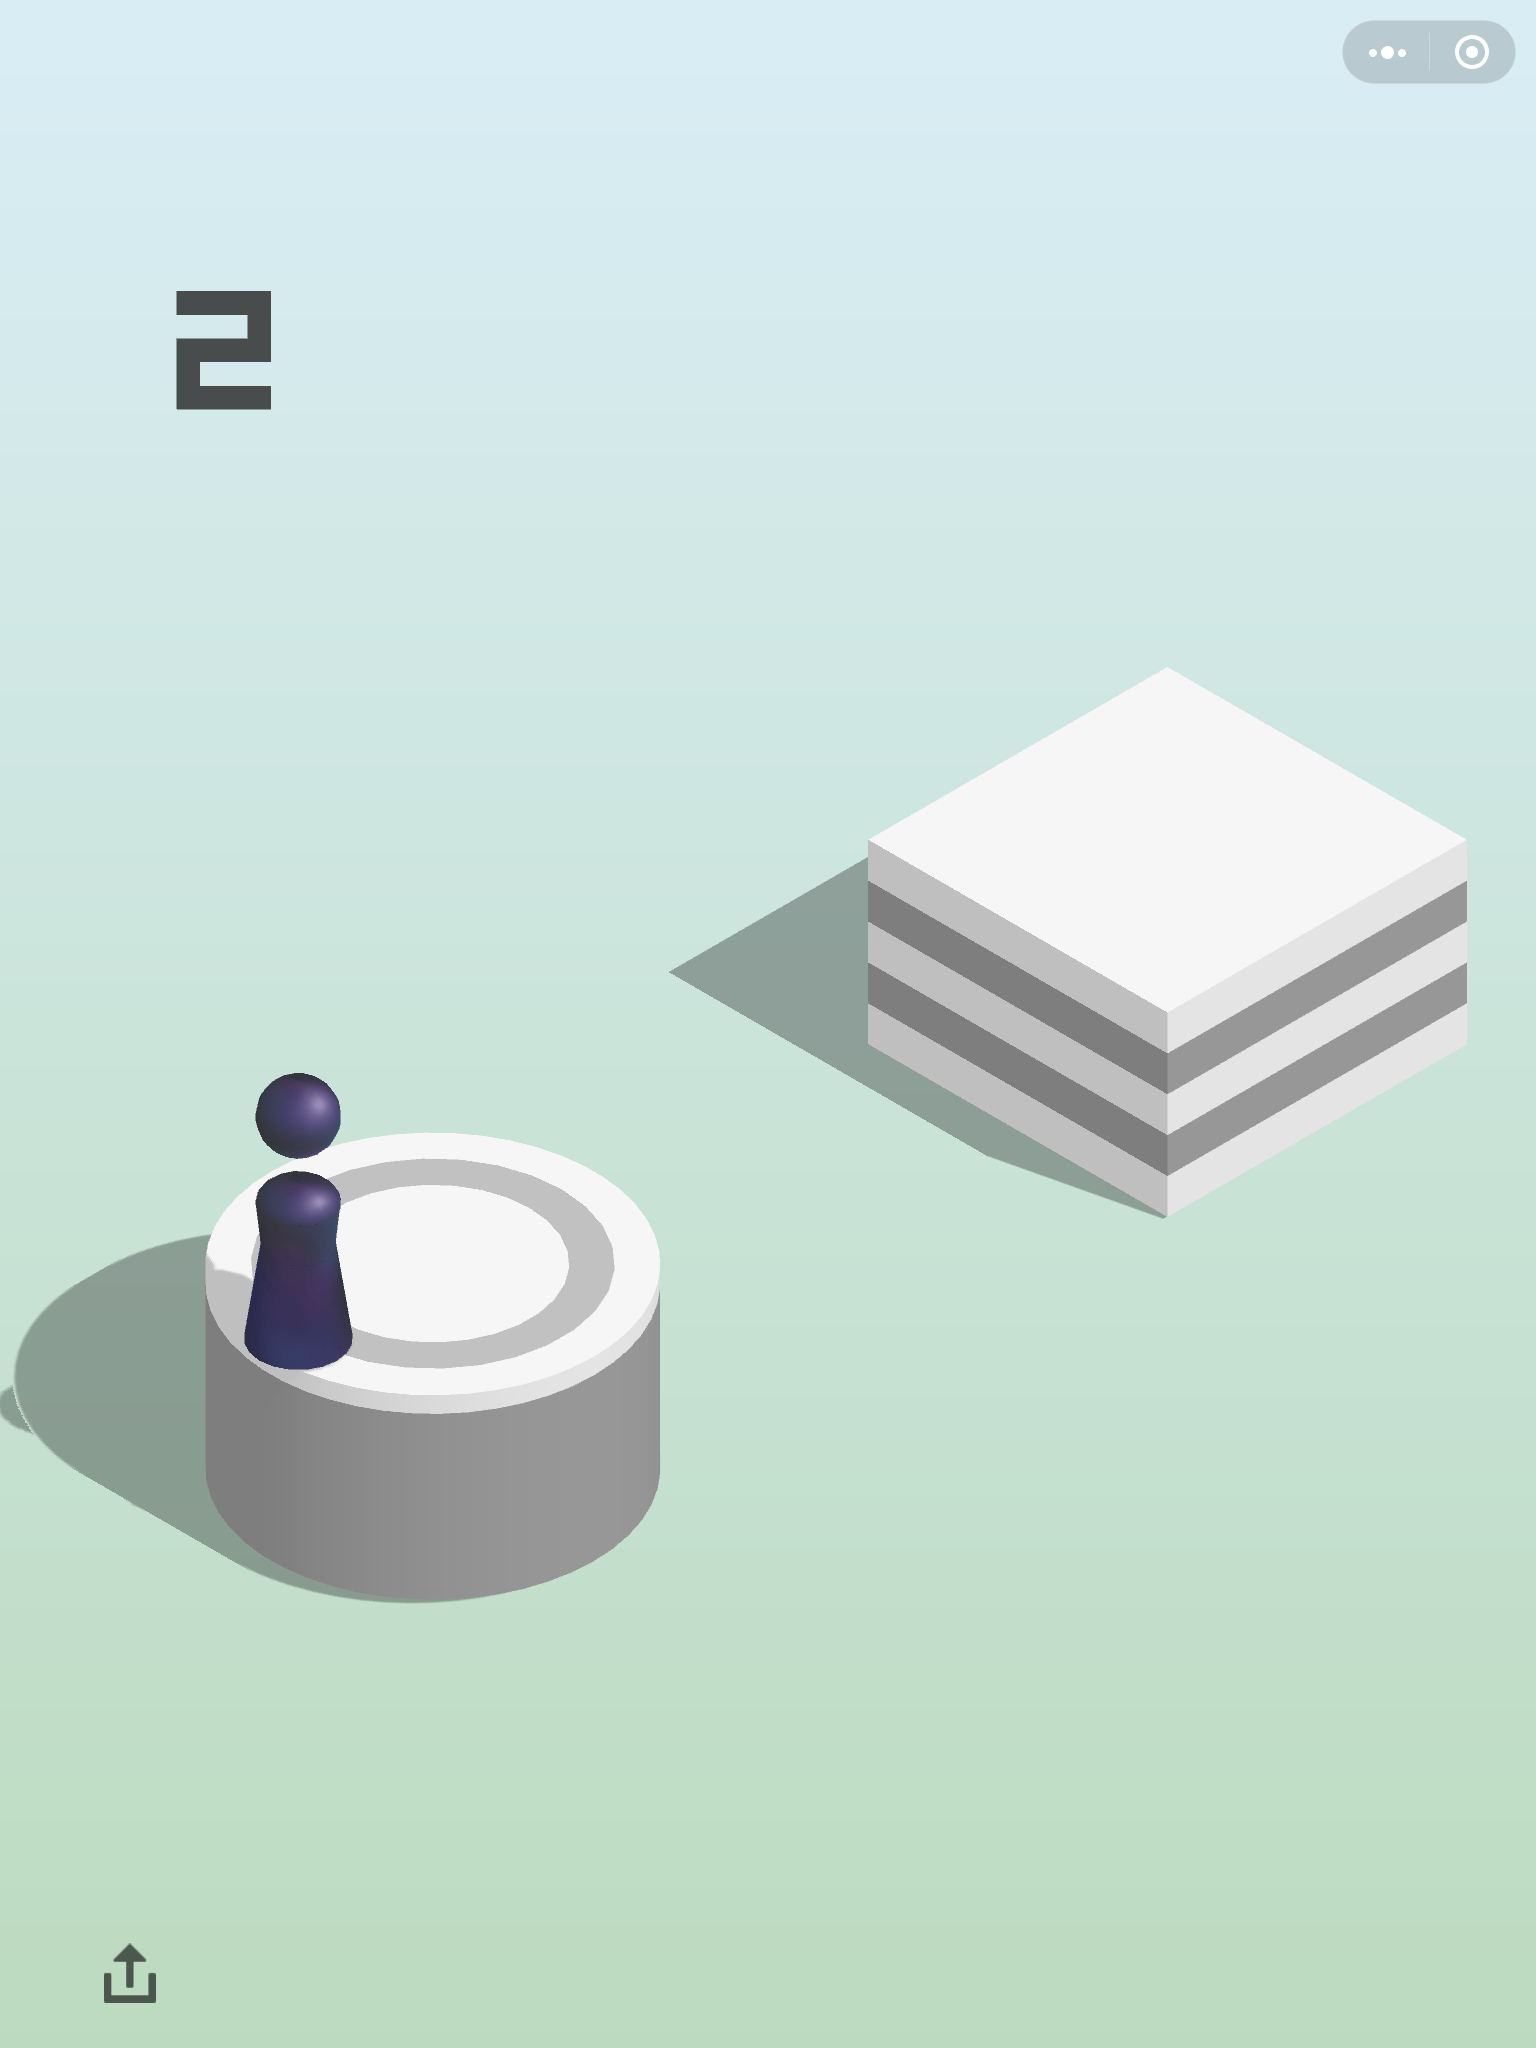c: (200, 1124, 665, 1609)
f: (862, 663, 1475, 1222)
r: (240, 1071, 353, 1376)
